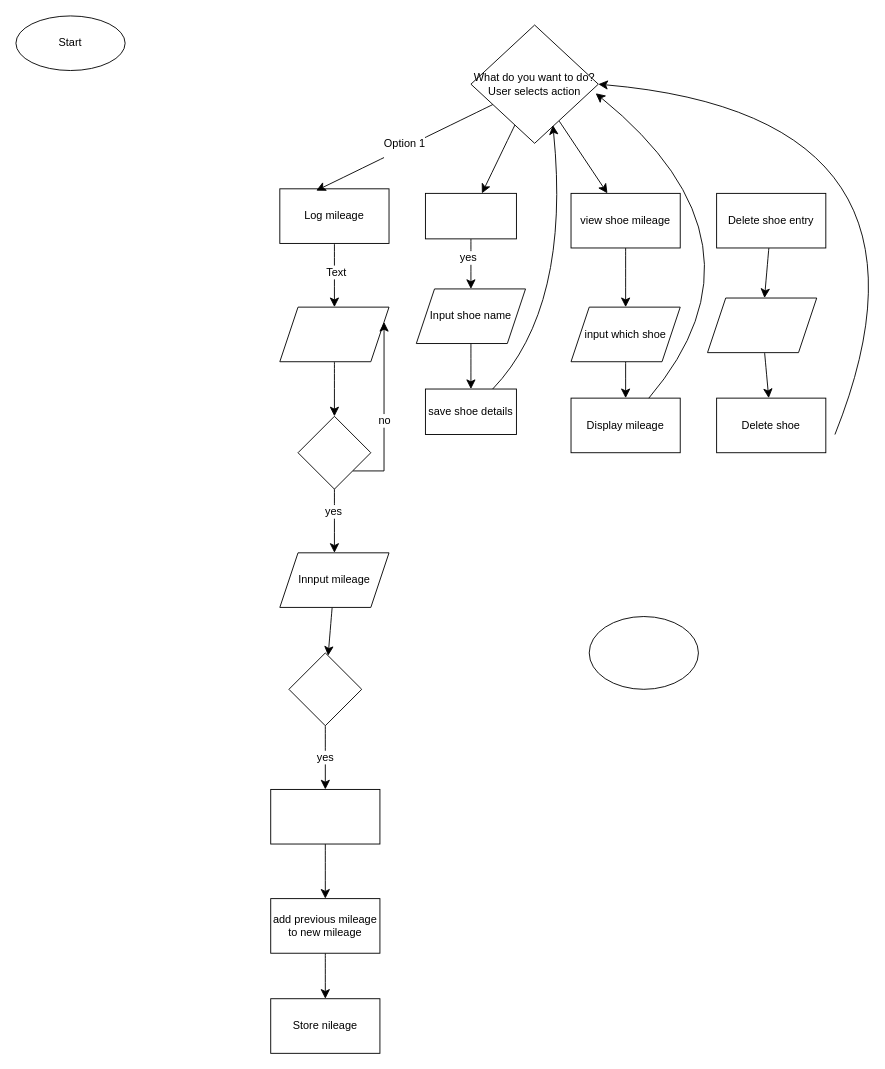
The diagram is 885 pixels wide and 1069 high, and some of its shapes have lost their labels. The box of each missing label's shape, as (x1, y1, x2, y2) in pixels:
Add new shoe: (425, 192, 516, 239)
Does shoe exist?: (297, 415, 371, 489)
input shoe: (707, 297, 817, 353)
Input shoe type: (279, 306, 389, 362)
Read previous mileage: (270, 789, 380, 844)
valid mileage?: (288, 652, 362, 726)
